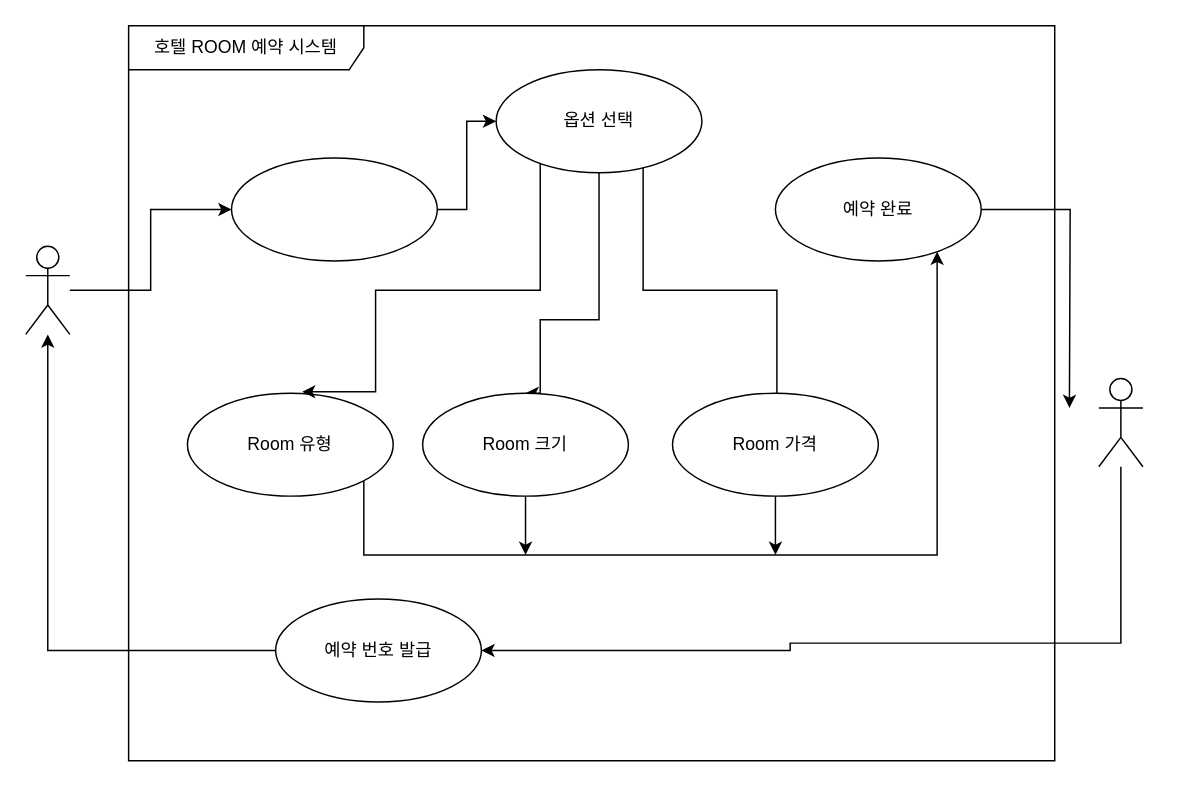
The diagram is 1186 pixels wide and 786 high, and some of its shapes have lost their labels. Here are the shapes that lost their labels. From the top down, the centre of each, then its label:
the point at 333,209: 룸 예약
the point at 47,289: 고객
the point at 1120,422: 호텔시스템
